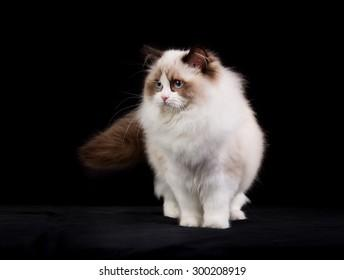ragdoll: (130, 30, 219, 130)
